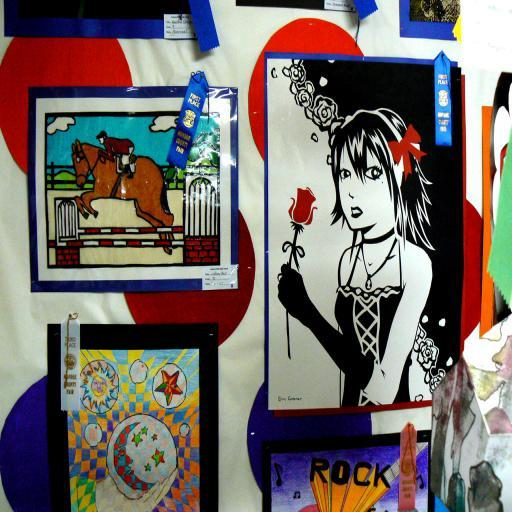Horse: (70, 136, 178, 256)
